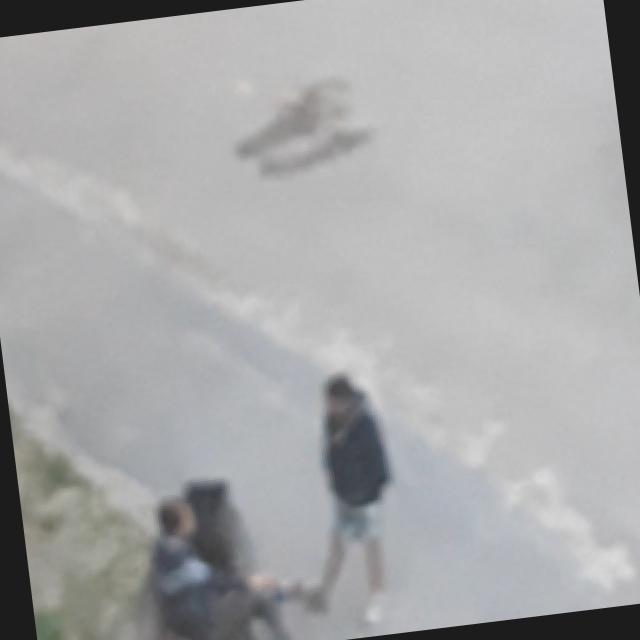person: (277, 370, 410, 636), (138, 488, 284, 640)
